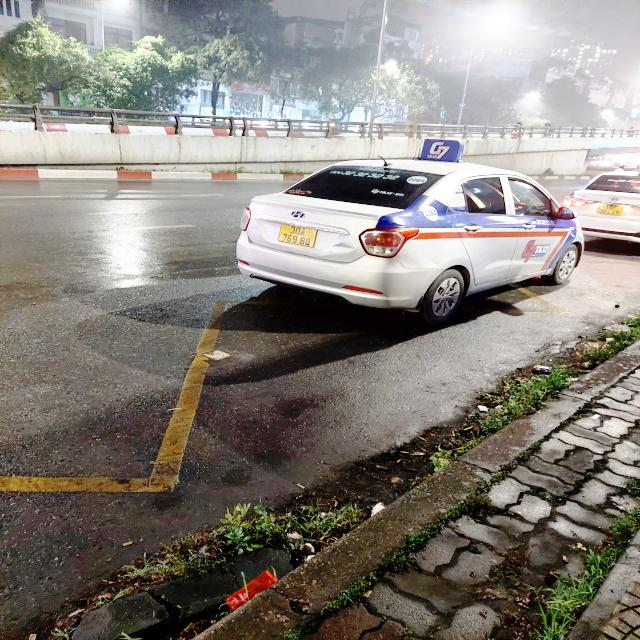license_plate: (277, 223, 322, 251), (595, 204, 627, 217)
